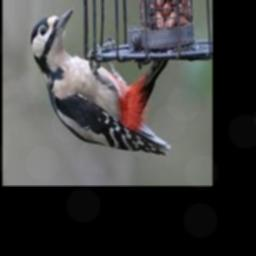Woodpecker: (30, 9, 171, 156)
